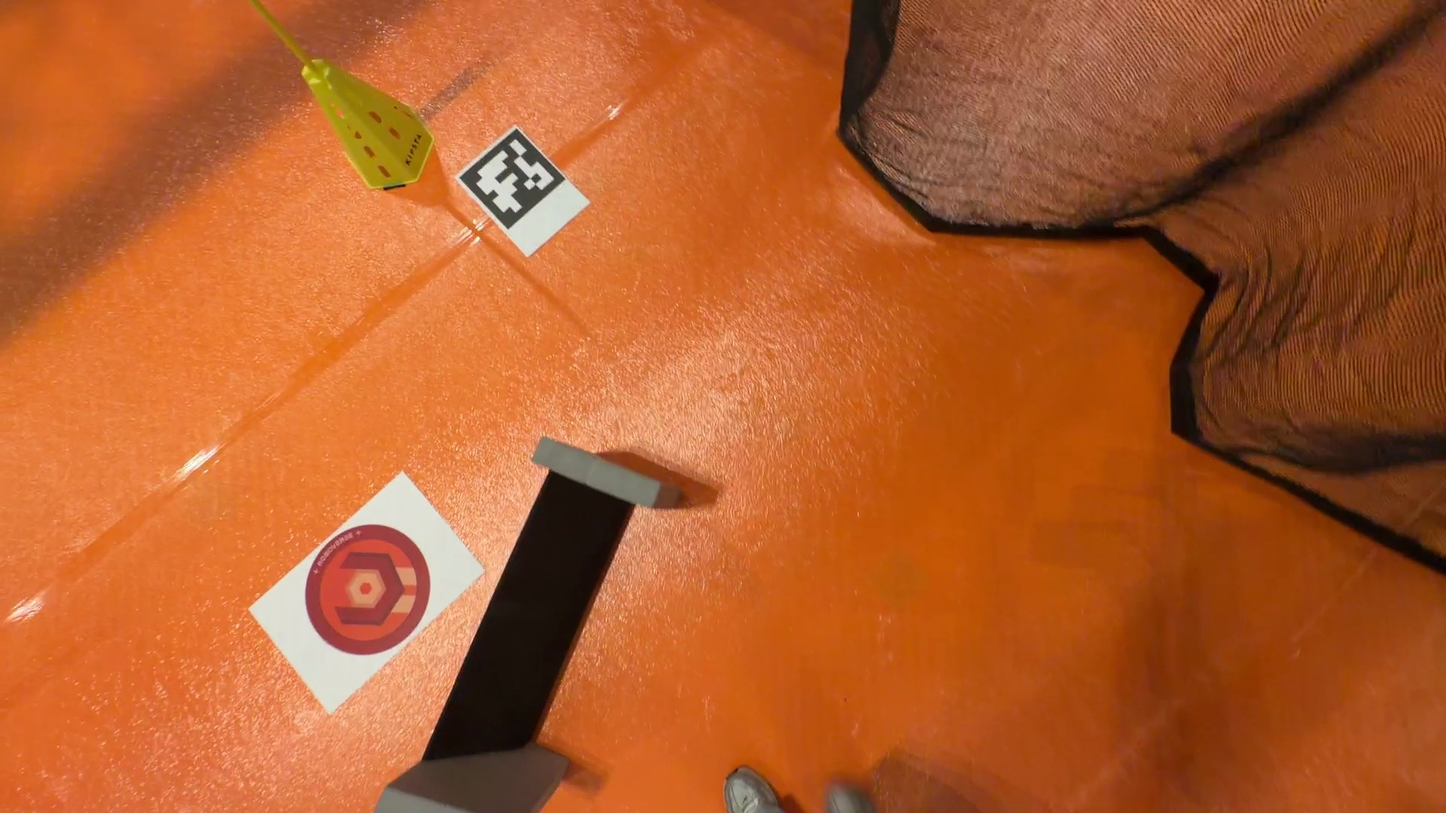landing_pad: (308, 526, 432, 655)
